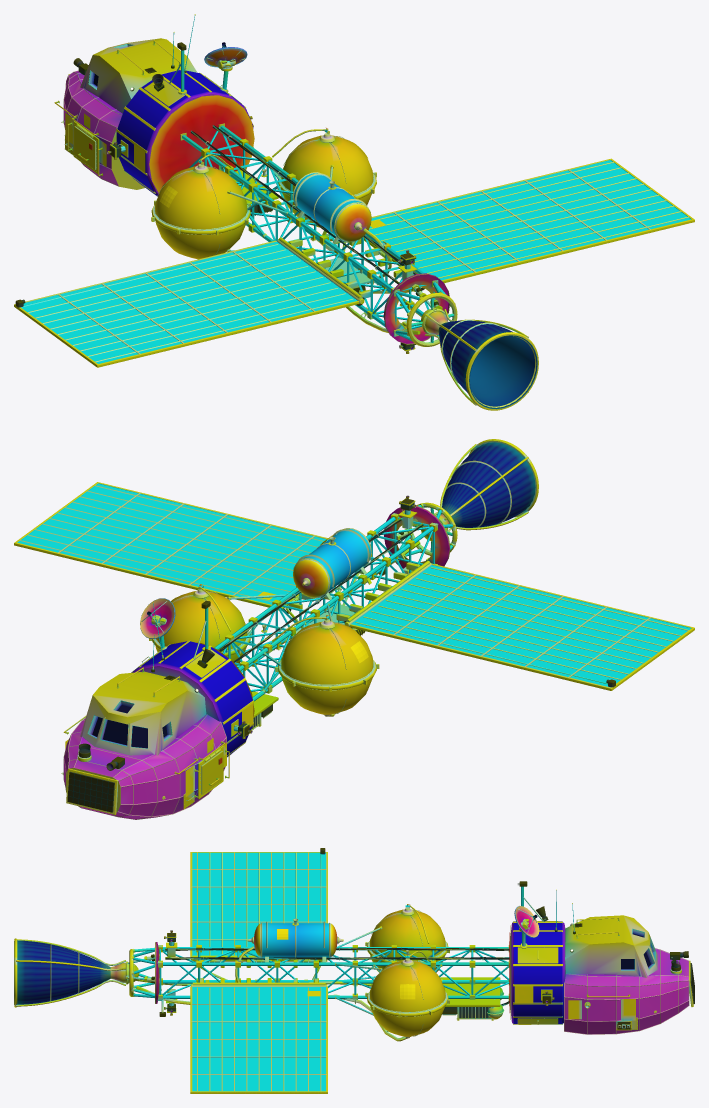
The model's file is chassis.glb.
3 renders of one model, top to bottom at view 1: azimuth 30°, elevation 25°; view 2: azimuth 150°, elevation 25°; view 3: azimuth 270°, elevation 25°, orthographic. The views are drawn at different scales.
Visible parts, largest first — view 1: CHASSIS_BODY, RAD_L, RAD_R, CAPSULE, ENGINE_BELL; view 2: CHASSIS_BODY, RAD_L, RAD_R, CAPSULE, ENGINE_BELL; view 3: CHASSIS_BODY, RAD_R, RAD_L, CAPSULE, ENGINE_BELL.
Boxes of the visible parts, bbox=[...] form: CHASSIS_BODY: bbox=[68, 14, 457, 353]; RAD_L: bbox=[14, 237, 364, 367]; RAD_R: bbox=[364, 158, 694, 282]; CAPSULE: bbox=[54, 32, 197, 189]; ENGINE_BELL: bbox=[421, 308, 538, 410]; CHASSIS_BODY: bbox=[66, 495, 457, 814]; RAD_L: bbox=[344, 560, 694, 690]; RAD_R: bbox=[14, 482, 329, 610]; CAPSULE: bbox=[61, 634, 229, 819]; ENGINE_BELL: bbox=[421, 439, 538, 541]; CHASSIS_BODY: bbox=[126, 881, 694, 1041]; RAD_R: bbox=[190, 982, 327, 1093]; RAD_L: bbox=[190, 848, 327, 962]; CAPSULE: bbox=[564, 903, 689, 1034]; ENGINE_BELL: bbox=[14, 938, 139, 1007].
Bounding box in the file's own units: 10.9 × 2.95 × 13.07.
